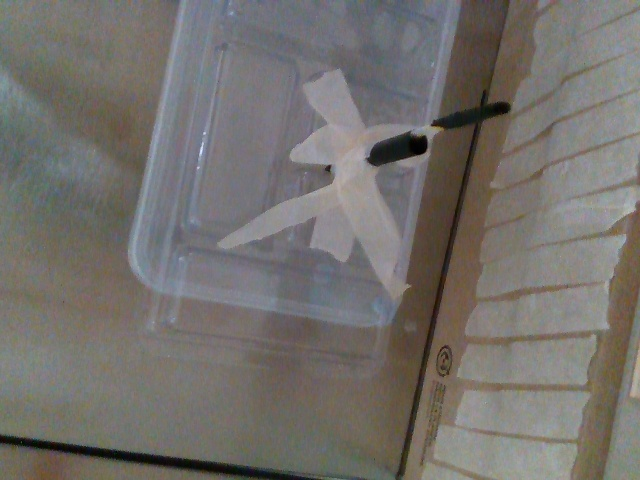test_strip: (413, 98, 510, 137)
